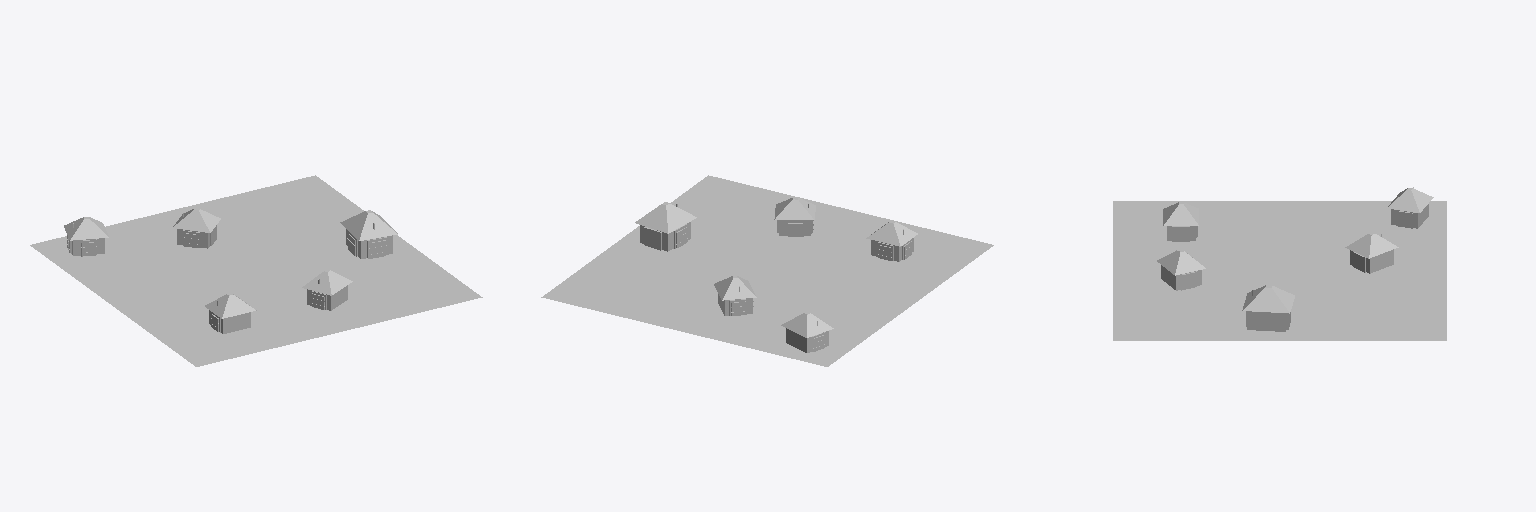
File: floor_houses.obj
3 views of the same model, side by side, from view 1: azimuth 30°, elevation 25°; view 2: azimuth 150°, elevation 25°; view 3: azimuth 270°, elevation 25° (orthographic).
Visible parts, largest first — view 1: polySurface1240 polySurface220, polySurface220 polySurface1235, polySurface220 polySurface1311, polySurface220 polySurface1050, polySurface220 polySurface724, polySurface220 polySurface987; view 2: polySurface1240 polySurface220, polySurface220 polySurface1235, polySurface220 polySurface1050, polySurface220 polySurface724, polySurface220 polySurface987, polySurface220 polySurface1311; view 3: polySurface1240 polySurface220, polySurface220 polySurface1235, polySurface220 polySurface1311, polySurface220 polySurface987, polySurface220 polySurface724, polySurface220 polySurface1050.
Boxes of the visible parts, <box> form: polySurface1240 polySurface220: <box>30,175,482,366</box>; polySurface220 polySurface1235: <box>340,210,397,258</box>; polySurface220 polySurface1311: <box>173,208,220,248</box>; polySurface220 polySurface1050: <box>205,293,256,333</box>; polySurface220 polySurface724: <box>64,217,108,256</box>; polySurface220 polySurface987: <box>302,269,352,310</box>; polySurface1240 polySurface220: <box>541,175,993,366</box>; polySurface220 polySurface1235: <box>635,202,696,251</box>; polySurface220 polySurface1050: <box>866,221,917,261</box>; polySurface220 polySurface724: <box>781,312,833,352</box>; polySurface220 polySurface987: <box>774,198,815,236</box>; polySurface220 polySurface1311: <box>714,276,756,315</box>; polySurface1240 polySurface220: <box>1113,201,1446,340</box>; polySurface220 polySurface1235: <box>1242,285,1294,331</box>; polySurface220 polySurface1311: <box>1345,232,1398,273</box>; polySurface220 polySurface987: <box>1157,249,1205,290</box>; polySurface220 polySurface724: <box>1387,187,1433,228</box>; polySurface220 polySurface1050: <box>1163,202,1198,241</box>.
Size of the model in its own units: 34.2 by 5.03 by 34.55.